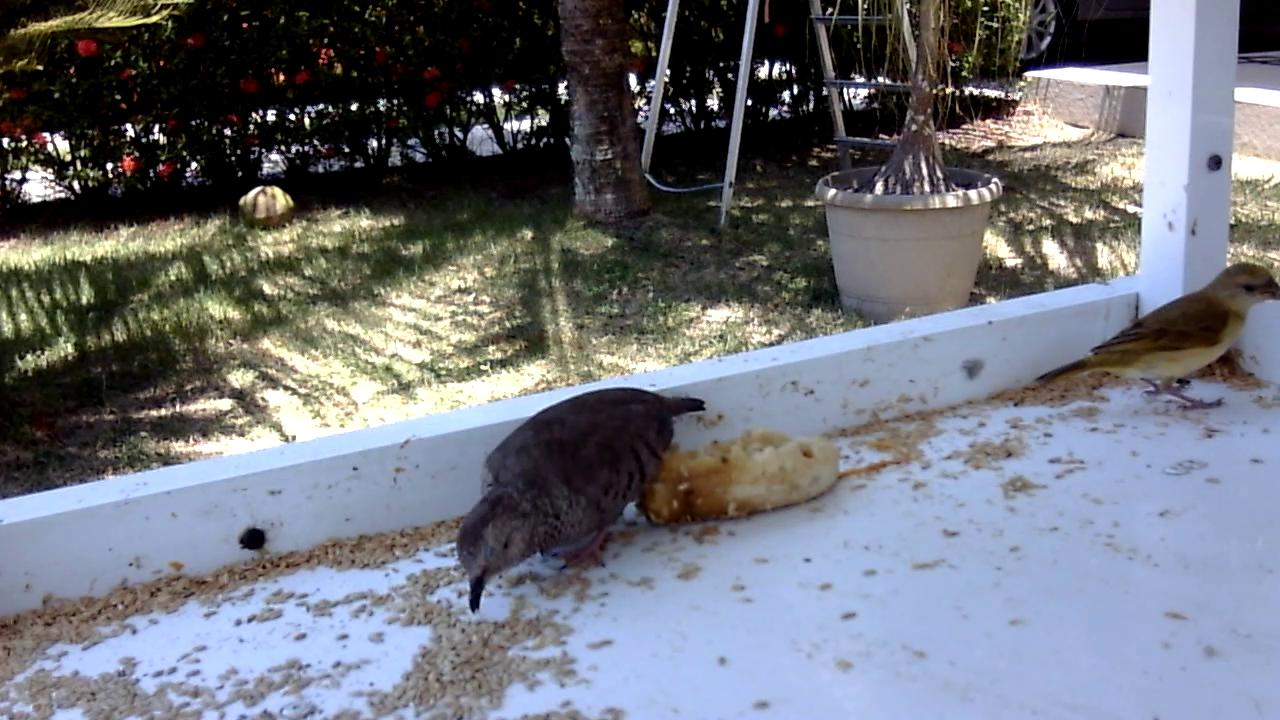canario_do_amazonas: (1030, 261, 1280, 417)
rolinha: (452, 383, 711, 619)
